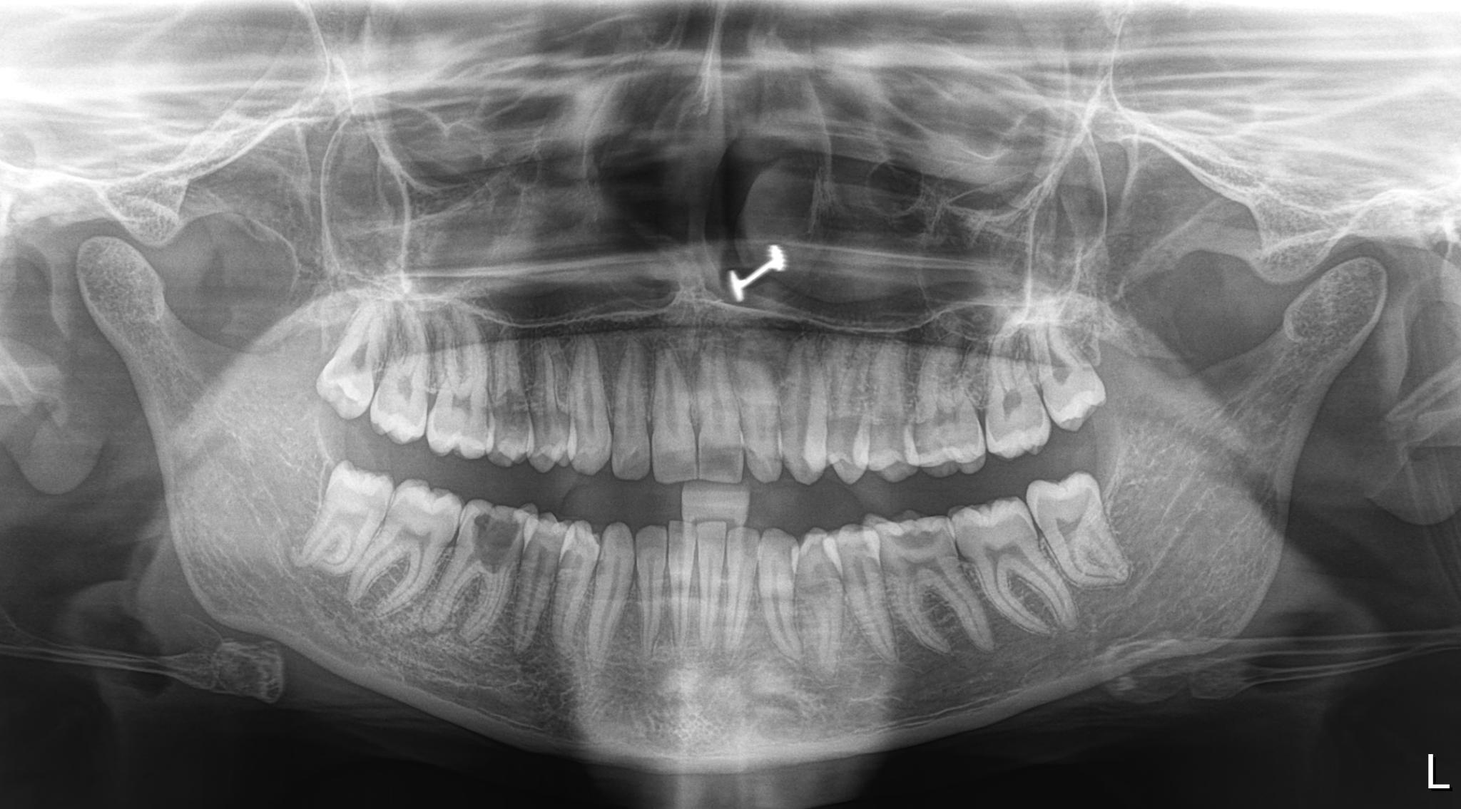Dental Caries: (895, 536, 962, 591), (476, 517, 531, 575), (492, 396, 537, 464)
